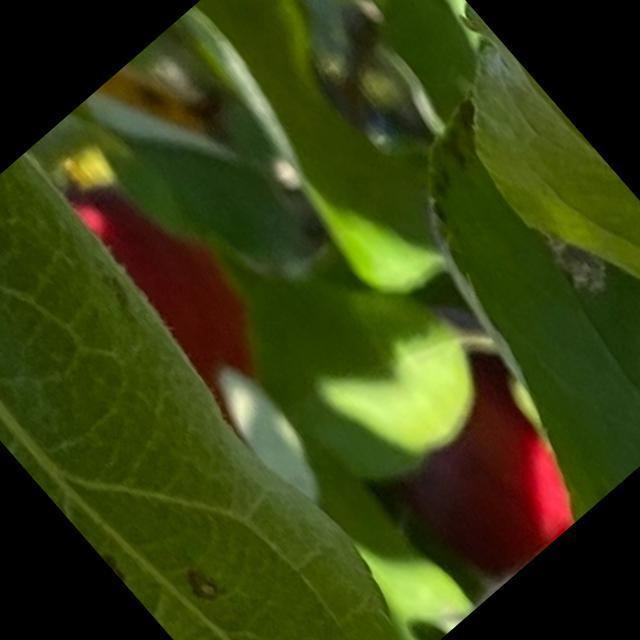Rotten Apple: (52, 155, 299, 418), (368, 360, 600, 595)
